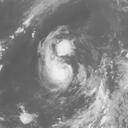cyclone: (39, 33, 78, 90)
